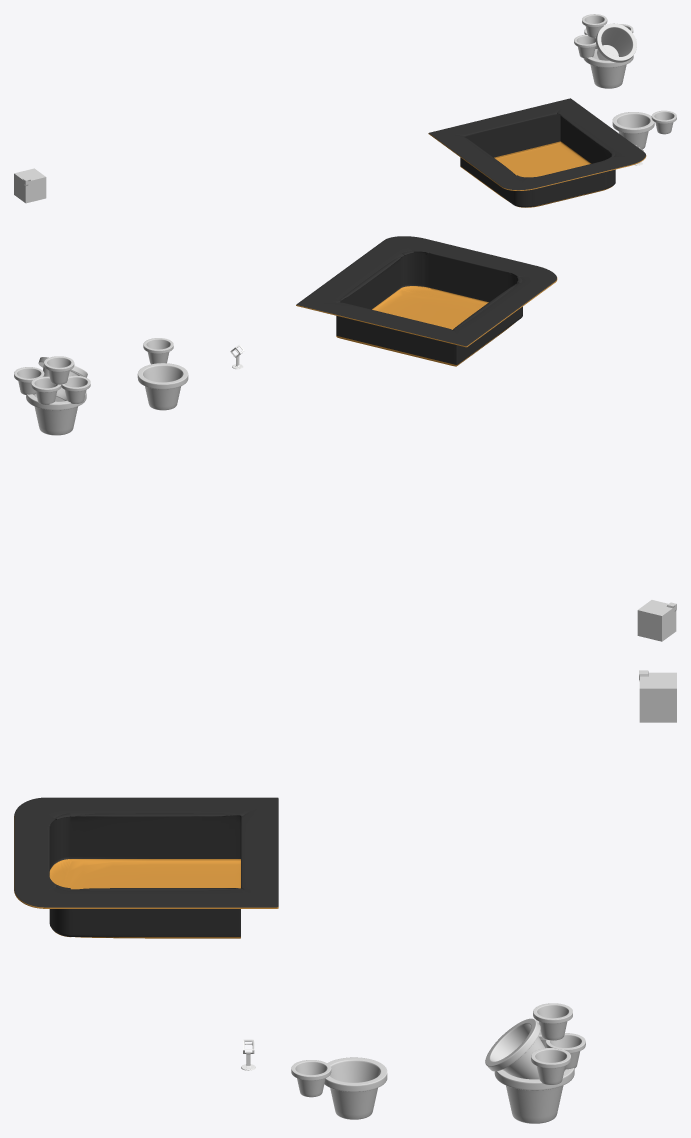
The model's file is PotI.fbx.
3 views of the same model, one above another, from view 1: azimuth 30°, elevation 25°; view 2: azimuth 150°, elevation 25°; view 3: azimuth 270°, elevation 25° (orthographic). The views are drawn at different scales.
Parts seen in each view (by area): view 1: Cube.001, Circle.010, Circle.008, Cube.003, Circle.009; view 2: Cube.001, Circle.010, Circle.008, Cube.003, Circle.009; view 3: Cube.001, Circle.010, Circle.008, Cube.003, Circle.009.
Part boxes in pixels (<box>): Cube.001: <box>428,98,646,207</box>; Circle.010: <box>574,14,636,88</box>; Circle.008: <box>612,112,654,149</box>; Cube.003: <box>14,168,46,203</box>; Circle.009: <box>651,110,676,134</box>; Cube.001: <box>296,236,557,366</box>; Circle.010: <box>14,356,90,435</box>; Circle.008: <box>137,363,188,410</box>; Cube.003: <box>637,600,676,641</box>; Circle.009: <box>143,338,173,364</box>; Cube.001: <box>14,797,278,938</box>; Circle.010: <box>485,1003,585,1123</box>; Circle.008: <box>324,1057,387,1119</box>; Cube.003: <box>639,670,676,722</box>; Circle.009: <box>291,1060,331,1097</box>.
Bounding box in the file's own units: 5652 × 812 × 3543.
